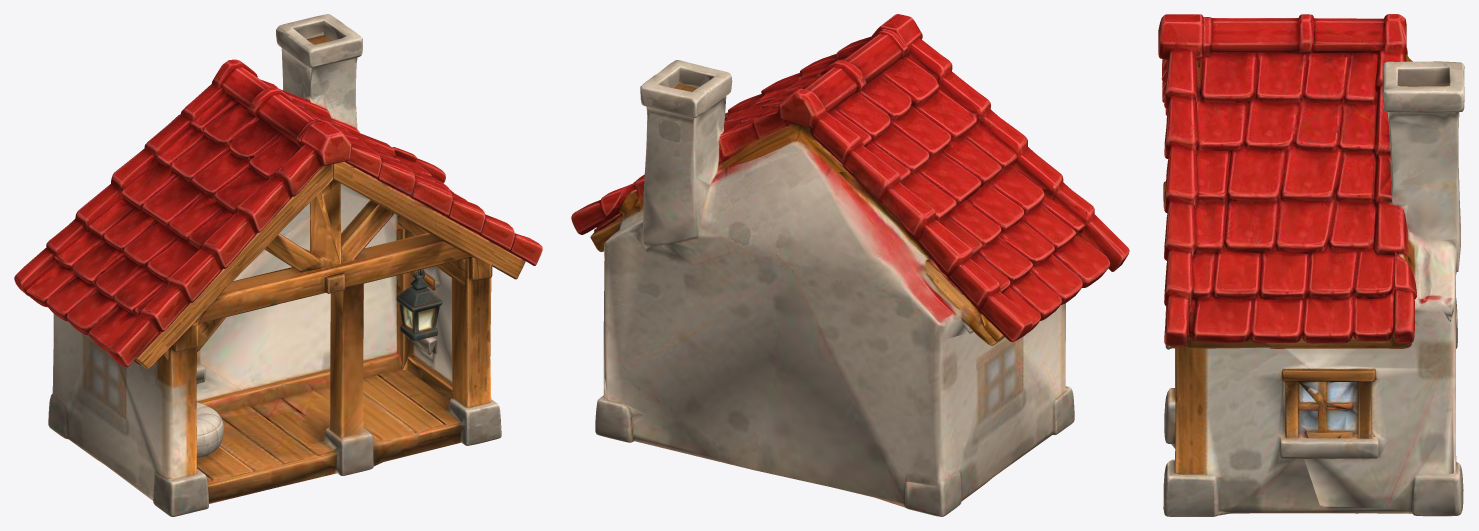
The model's file is red_timber_cottage.glb.
3 views of the same model, side by side, from view 1: azimuth 30°, elevation 25°; view 2: azimuth 150°, elevation 25°; view 3: azimuth 270°, elevation 25° (orthographic). The views are drawn at different scales.
Visible parts, largest first — view 1: red_timber_cottage; view 2: red_timber_cottage; view 3: red_timber_cottage.
Part boxes in pixels (box(x1,y1,x2,y2)): red_timber_cottage: box(14, 14, 542, 516); red_timber_cottage: box(571, 14, 1129, 516); red_timber_cottage: box(1158, 14, 1464, 516).
Bounding box in the file's own units: 3.1 × 2.4 × 1.64.
1 material, 1 textured.
